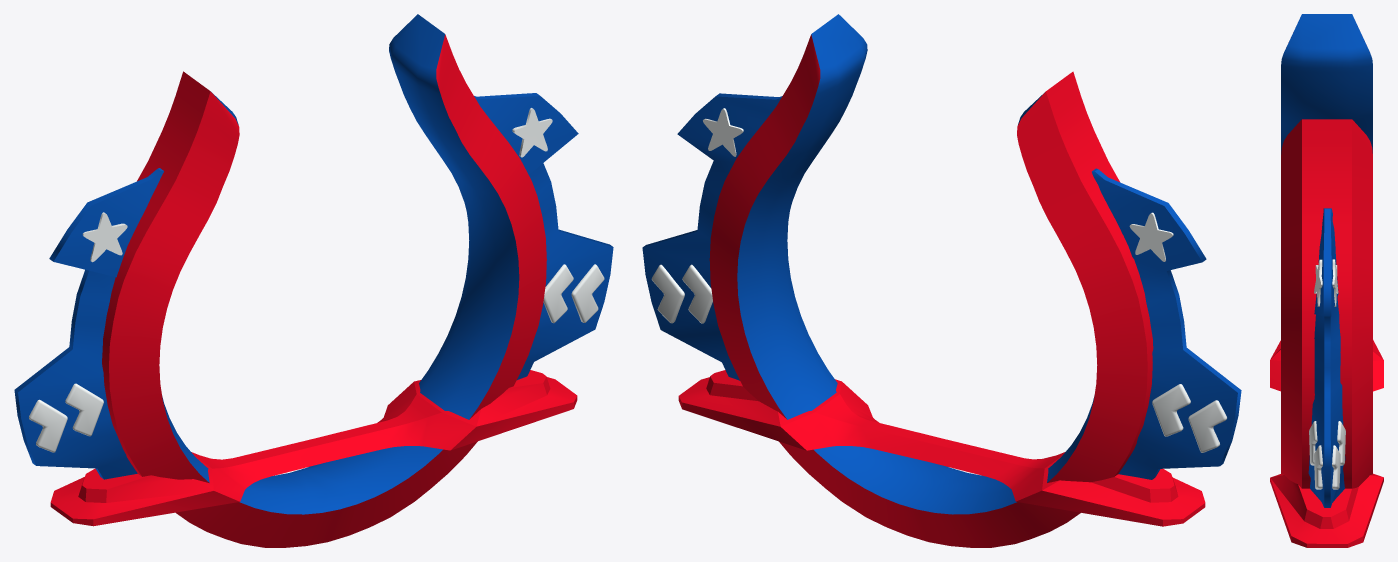
File: gate.fbx
3 renders of one model, left to right at view 1: azimuth 30°, elevation 25°; view 2: azimuth 150°, elevation 25°; view 3: azimuth 270°, elevation 25°, orthographic. The views are drawn at different scales.
Parts seen in each view (by area): view 1: Gate_portal_1.004; view 2: Gate_portal_1.004; view 3: Gate_portal_1.004.
Boxes of the visible parts, left/top/right/bottom form: Gate_portal_1.004: left=14, top=14, right=613, bottom=547; Gate_portal_1.004: left=642, top=14, right=1241, bottom=547; Gate_portal_1.004: left=1270, top=14, right=1383, bottom=547.
Size of the model in its own units: 1242 by 956 by 224.
2 materials, 2 textured.
